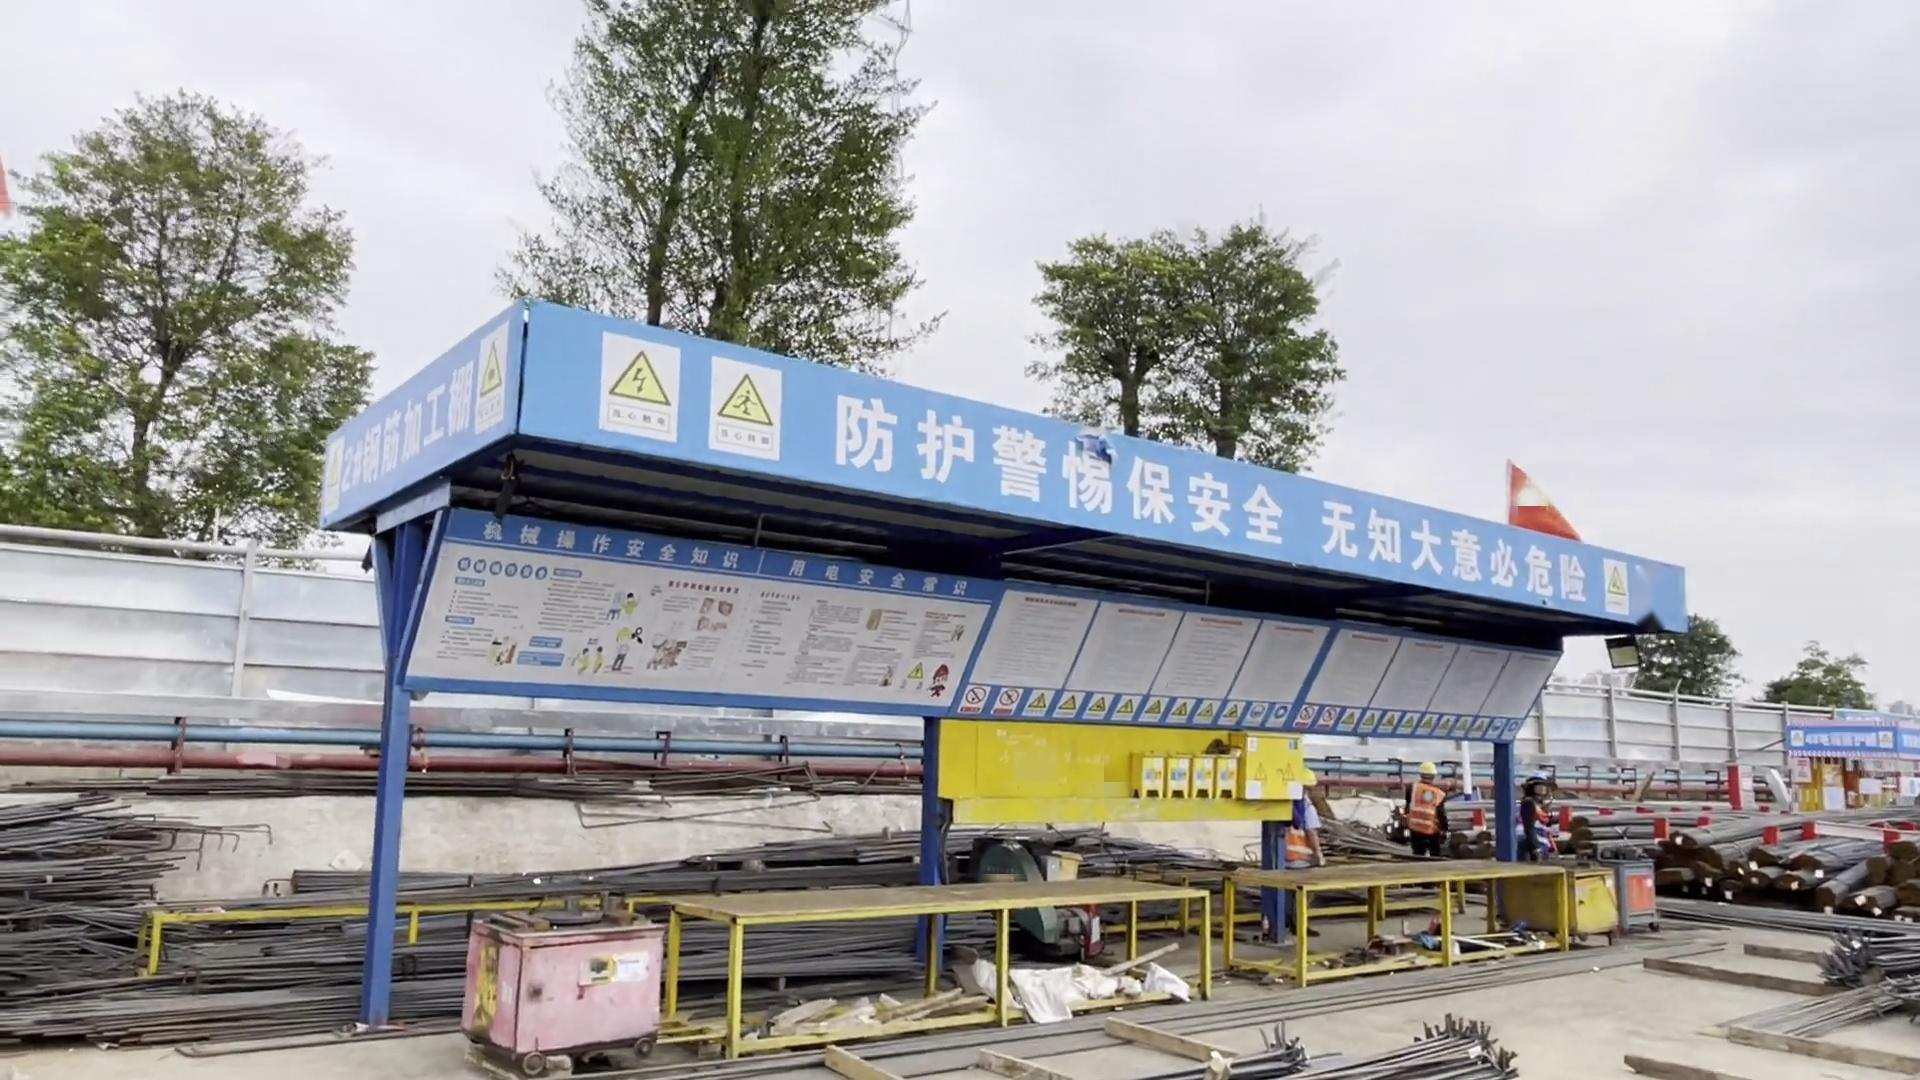ebox: (1130, 733, 1306, 799)
fence: (1, 530, 494, 681)
helmet: (1414, 758, 1439, 775), (1525, 770, 1551, 784)
person: (1402, 756, 1460, 873), (1288, 770, 1320, 946), (1524, 767, 1561, 861)
rebar: (1, 777, 442, 1025), (687, 807, 914, 896), (1807, 928, 1918, 1017)
slogan: (599, 322, 1633, 621), (327, 327, 515, 497), (1795, 729, 1905, 759)
vest: (1286, 799, 1322, 870), (1411, 783, 1446, 845), (1523, 802, 1552, 848)
